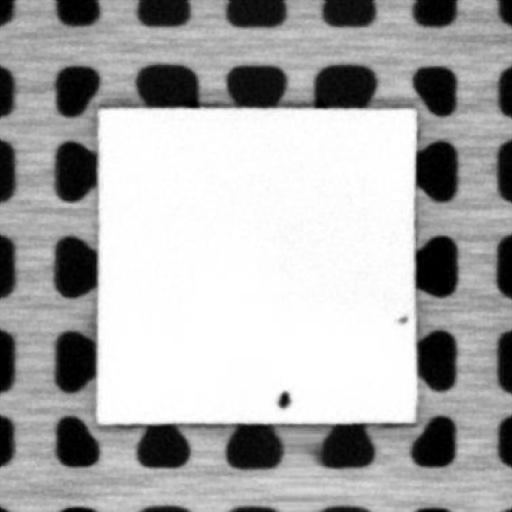DIE_INK: (272, 386, 293, 410), (393, 311, 409, 324)
